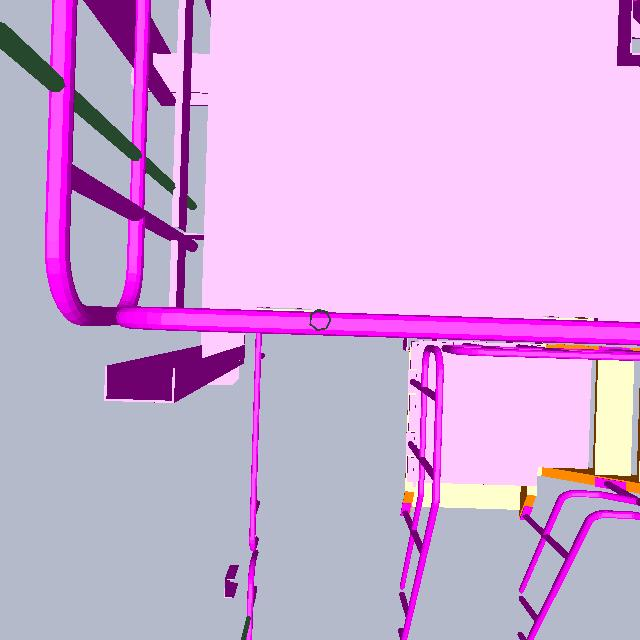Poste: (305, 302, 343, 345)
Soporte: (98, 325, 257, 419)
